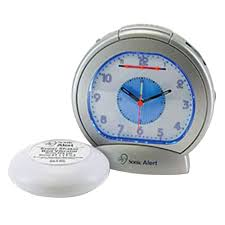alarm_clock: (68, 25, 211, 176)
